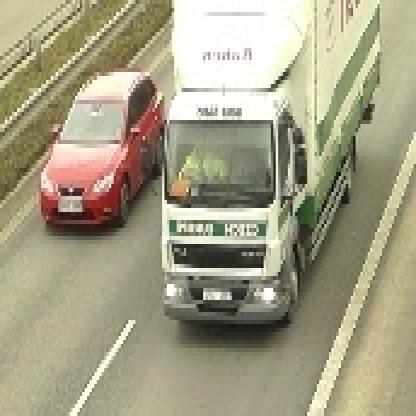truck: (158, 1, 383, 317)
